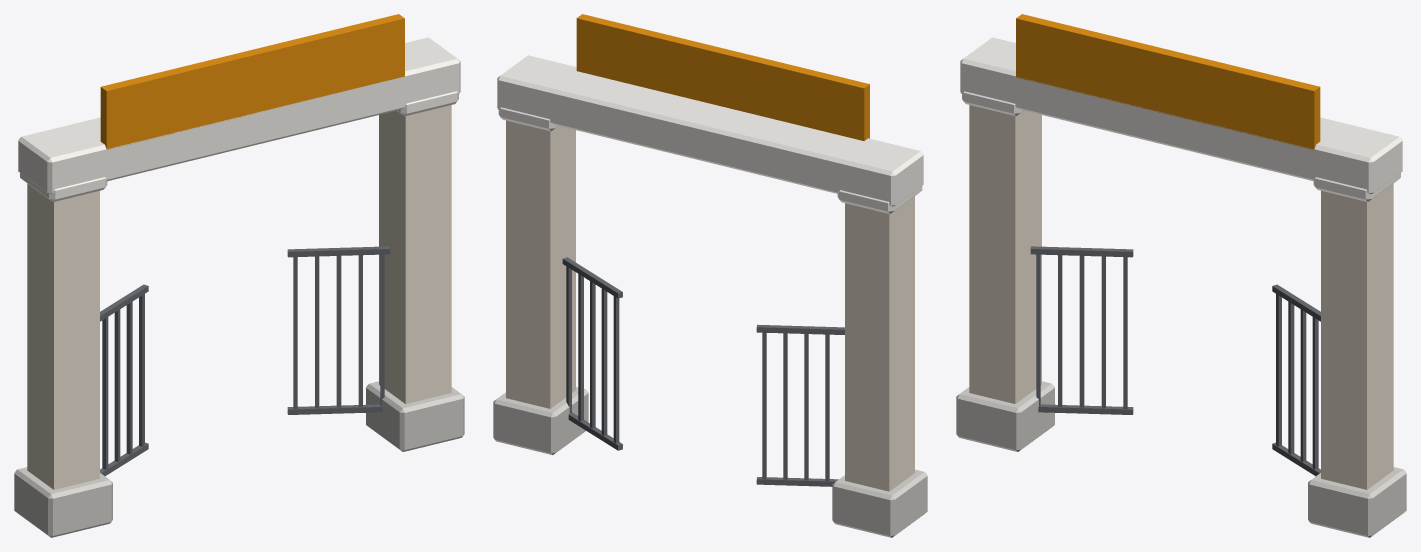
File: SM_PropertyGate.fbx
3 views of the same model, side by side, from view 1: azimuth 30°, elevation 25°; view 2: azimuth 150°, elevation 25°; view 3: azimuth 330°, elevation 25° (orthographic). The views are drawn at different scales.
Parts seen in each view (by area): view 1: SM_PropertyGate; view 2: SM_PropertyGate; view 3: SM_PropertyGate.
Part boxes in pixels (x1,y1,x2,y2): SM_PropertyGate: (14, 14, 464, 537); SM_PropertyGate: (493, 14, 927, 537); SM_PropertyGate: (956, 14, 1406, 537).
Size of the model in its own units: 398 by 395 by 70.51.
